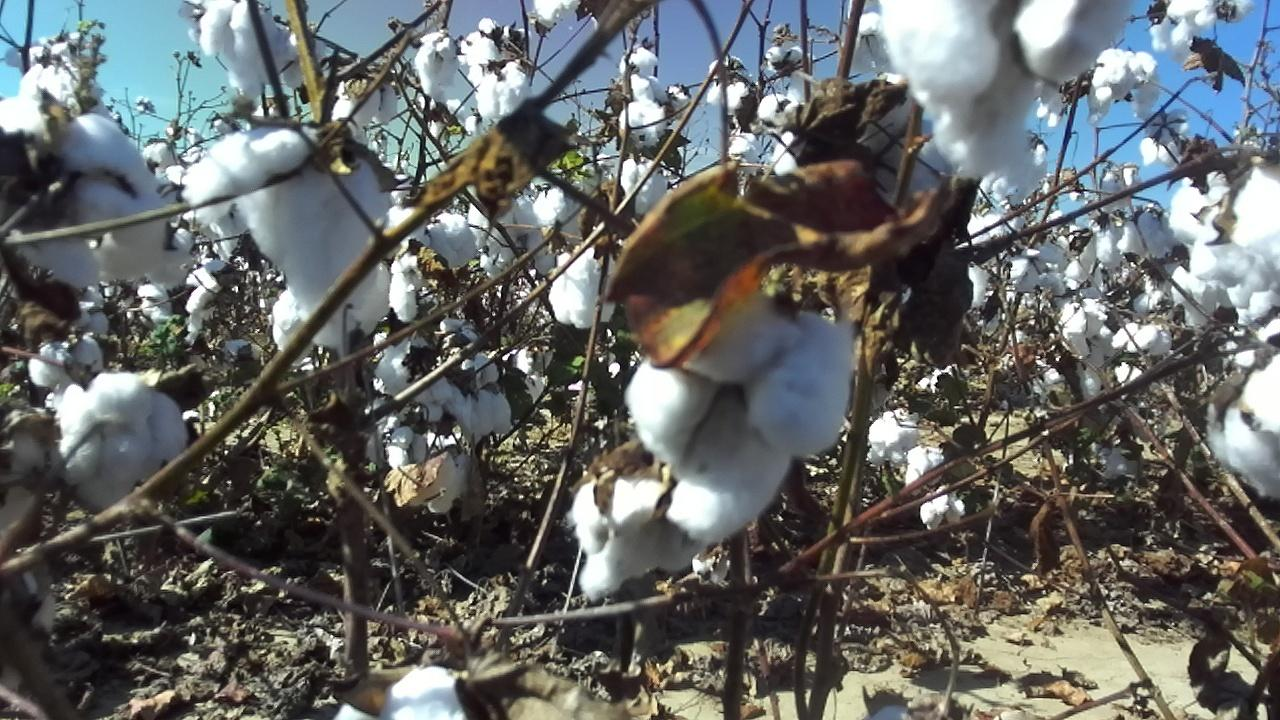cotton_ready: (626, 307, 859, 545), (884, 0, 1137, 206), (183, 131, 394, 347), (7, 112, 189, 291), (60, 374, 191, 512), (571, 480, 709, 601), (1166, 165, 1280, 310), (377, 339, 517, 444), (186, 0, 324, 102), (1208, 349, 1280, 502), (388, 208, 478, 324), (1075, 203, 1195, 277), (0, 63, 107, 142), (335, 667, 489, 720), (467, 190, 555, 278), (548, 241, 629, 329), (1149, 0, 1257, 64), (1078, 45, 1159, 124), (401, 430, 471, 515), (530, 161, 600, 245), (976, 137, 1051, 206), (997, 228, 1073, 294), (957, 212, 1005, 310), (459, 20, 532, 82), (1112, 323, 1170, 386), (27, 339, 102, 387), (366, 416, 429, 469), (331, 78, 399, 126), (1061, 307, 1113, 369), (620, 42, 669, 104), (864, 410, 921, 463), (619, 157, 669, 215), (477, 65, 530, 119), (417, 33, 460, 99), (1045, 366, 1107, 405), (1183, 281, 1230, 332), (619, 99, 665, 147), (1096, 168, 1140, 212), (906, 447, 950, 489), (921, 494, 966, 530), (534, 0, 577, 21)
